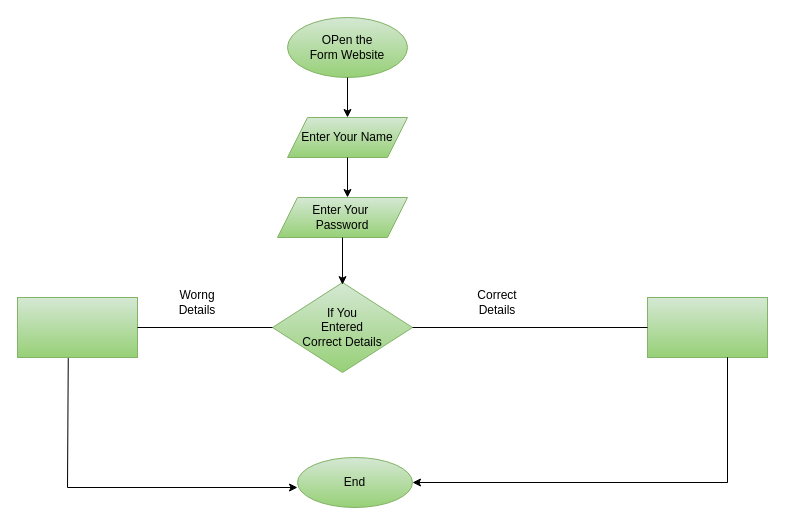
Some shapes in this 785 by 525 pixel diagram are drawn without their labels. Here are the shapes that lost their labels. From the top down, the centre of each, then its label:
the point at 77,327: Tap on Reset Button
the point at 707,327: Tap on Submit Button
